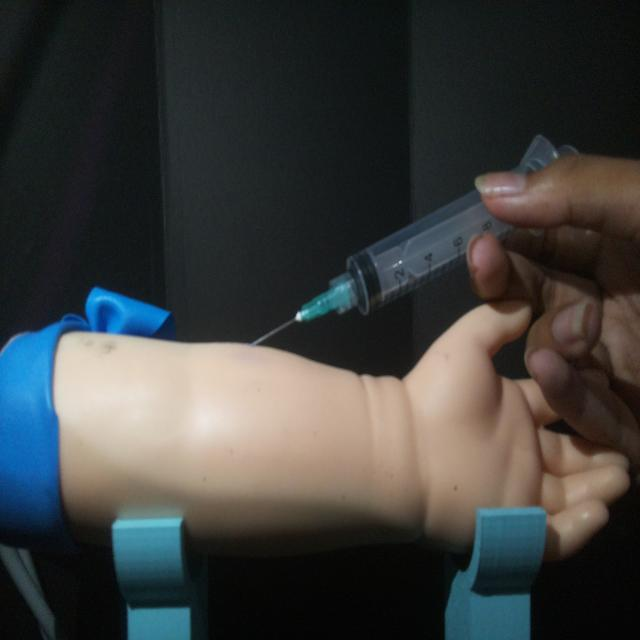29deg: (245, 129, 579, 350)
